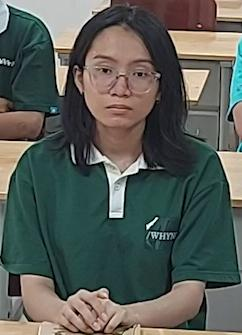Looking_Forward: (10, 16, 233, 330)
